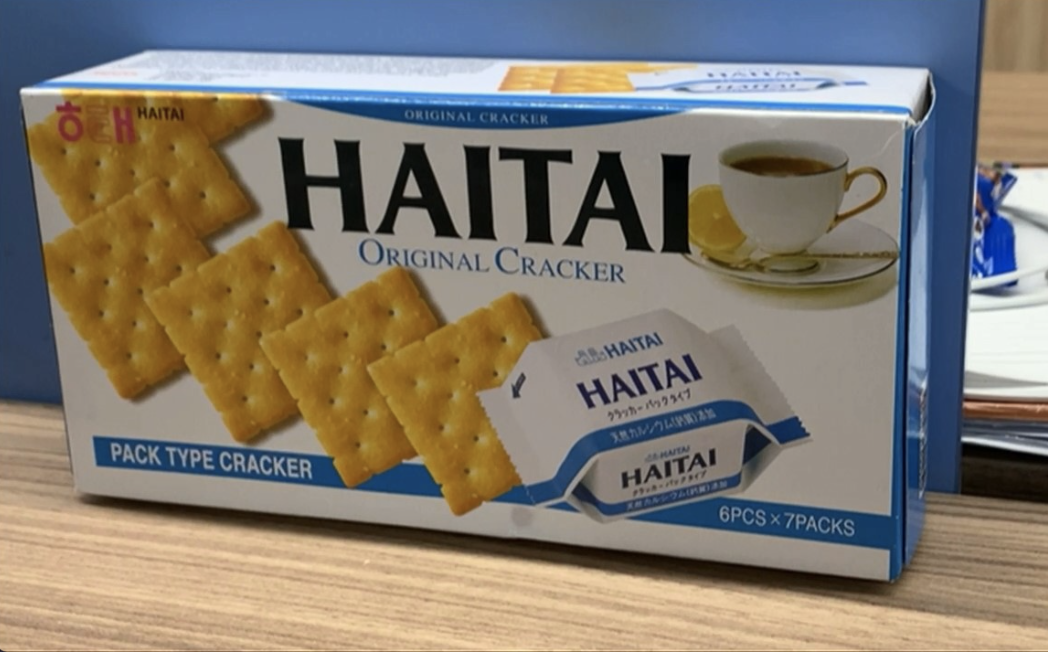crackers_150g: (56, 104, 875, 545)
